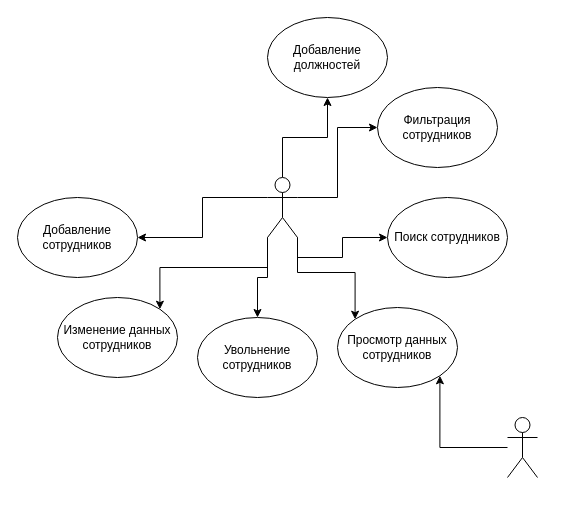
This 569x516 diagram has some shape labels left out. The centre of each missing label's shape, as x and y in pixels:
"HR-менеджер" belongs at point (282, 207).
"Менеджер" belongs at point (522, 447).
